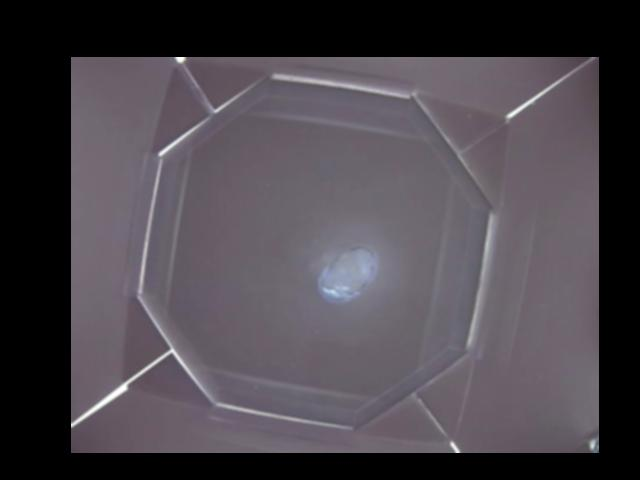Pebble: (319, 245, 382, 306)
